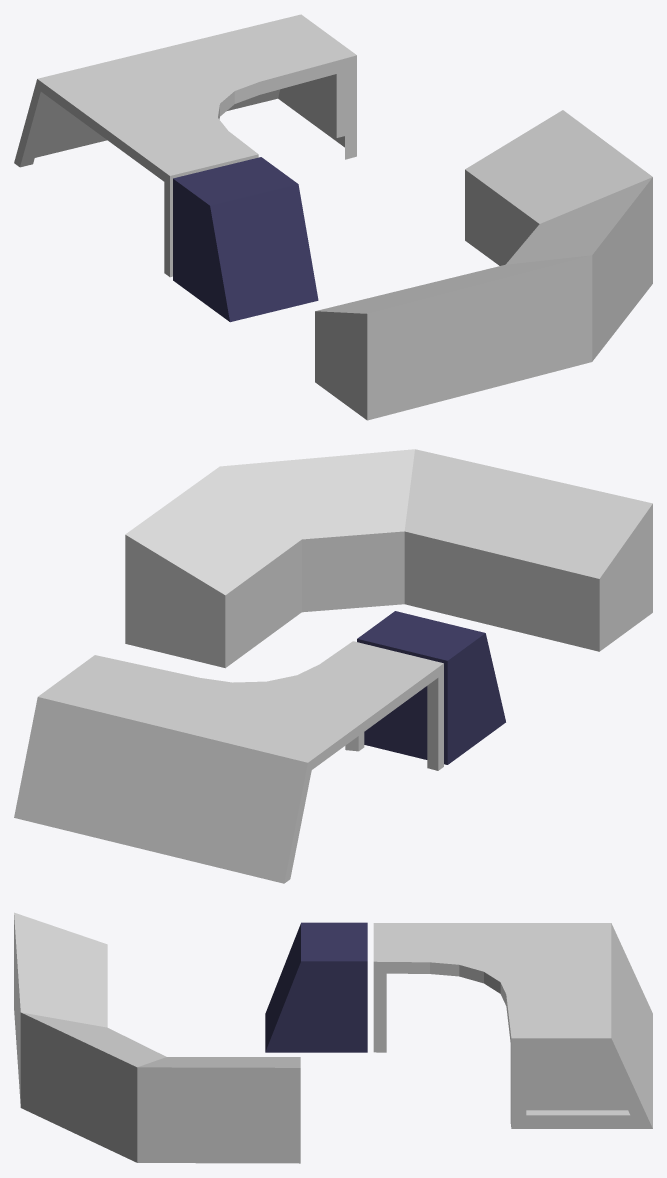
File: FBX_BureauPetitLabo.fbx
3 views of the same model, one above another, from view 1: azimuth 30°, elevation 25°; view 2: azimuth 150°, elevation 25°; view 3: azimuth 270°, elevation 25° (orthographic). The views are drawn at different scales.
Visible parts, largest first — view 1: Cube.163, Cube.161, Cube.162; view 2: Cube.163, Cube.161, Cube.162; view 3: Cube.163, Cube.161, Cube.162.
Boxes of the visible parts, left/top/right/bottom form: Cube.163: left=315, top=110, right=652, bottom=420; Cube.161: left=14, top=14, right=356, bottom=277; Cube.162: left=173, top=157, right=318, bottom=322; Cube.163: left=125, top=449, right=652, bottom=668; Cube.161: left=14, top=641, right=443, bottom=883; Cube.162: left=357, top=611, right=505, bottom=764; Cube.163: left=14, top=912, right=300, bottom=1163; Cube.161: left=373, top=923, right=652, bottom=1128; Cube.162: left=265, top=922, right=367, bottom=1052.
Bounding box in the file's own units: 850 × 255 × 1477.
